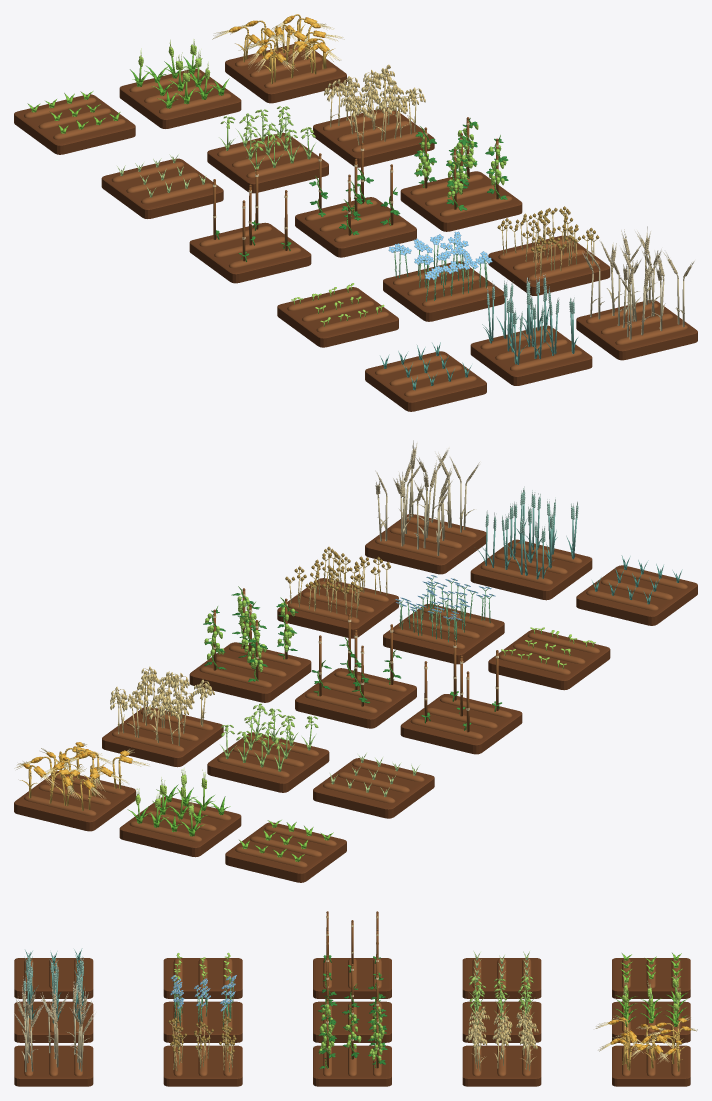
File: cultures.glb
3 renders of one model, top to bottom at view 1: azimuth 30°, elevation 25°; view 2: azimuth 150°, elevation 25°; view 3: azimuth 270°, elevation 25°, orthographic. The views are drawn at different scales.
Parts seen in each view (by area): view 1: terre.009, terre.003, terre.012, terre.006, terre.007, terre, terre.014, terre.008, terre.010, terre.013, terre.011, terre.004 (+3 smaller); view 2: terre.003, terre.012, terre.006, terre.007, terre.009, terre, terre.004, terre.010, terre.005, terre.014, terre.013, terre.002 (+3 smaller); view 3: terre.005, terre.014, terre.011, terre.008, terre.002, terre.003, terre, terre.006, terre.009, terre.010, terre.012, terre.013 (+3 smaller).
Part boxes in pixels (left/top/right/bottom): terre.009: left=277, top=287, right=398, bottom=347; terre.003: left=101, top=158, right=223, bottom=218; terre.012: left=365, top=351, right=486, bottom=411; terre.006: left=189, top=222, right=311, bottom=283; terre.007: left=295, top=197, right=416, bottom=257; terre: left=14, top=94, right=135, bottom=154; terre.014: left=576, top=299, right=697, bottom=360; terre.008: left=400, top=171, right=522, bottom=231; terre.010: left=383, top=261, right=504, bottom=321; terre.013: left=470, top=325, right=592, bottom=385; terre.011: left=488, top=235, right=610, bottom=295; terre.004: left=207, top=132, right=328, bottom=193; terre.003: left=313, top=758, right=434, bottom=818; terre.012: left=576, top=565, right=697, bottom=625; terre.006: left=400, top=694, right=522, bottom=754; terre.007: left=295, top=668, right=416, bottom=728; terre.009: left=488, top=629, right=610, bottom=690; terre: left=225, top=822, right=346, bottom=882; terre.004: left=207, top=732, right=329, bottom=792; terre.010: left=383, top=604, right=504, bottom=664; terre.005: left=102, top=706, right=223, bottom=767; terre.014: left=365, top=514, right=486, bottom=574; terre.013: left=470, top=539, right=592, bottom=600; terre.002: left=14, top=771, right=135, bottom=831; terre.005: left=462, top=1045, right=541, bottom=1086; terre.014: left=14, top=1045, right=93, bottom=1086; terre.011: left=163, top=1045, right=242, bottom=1086; terre.008: left=313, top=1045, right=391, bottom=1086; terre.002: left=612, top=1045, right=690, bottom=1086; terre.003: left=462, top=958, right=541, bottom=998; terre: left=612, top=958, right=690, bottom=998; terre.006: left=313, top=958, right=391, bottom=998; terre.009: left=163, top=958, right=242, bottom=998; terre.010: left=163, top=1001, right=242, bottom=1042; terre.012: left=14, top=958, right=93, bottom=998; terre.013: left=14, top=1001, right=93, bottom=1042.
Size of the model in its own units: 7.2 by 2.02 by 16.48.
